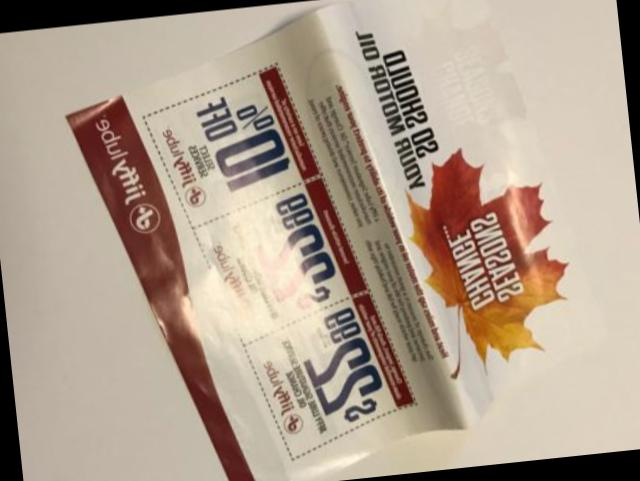cardboard paper: (69, 0, 608, 481)
